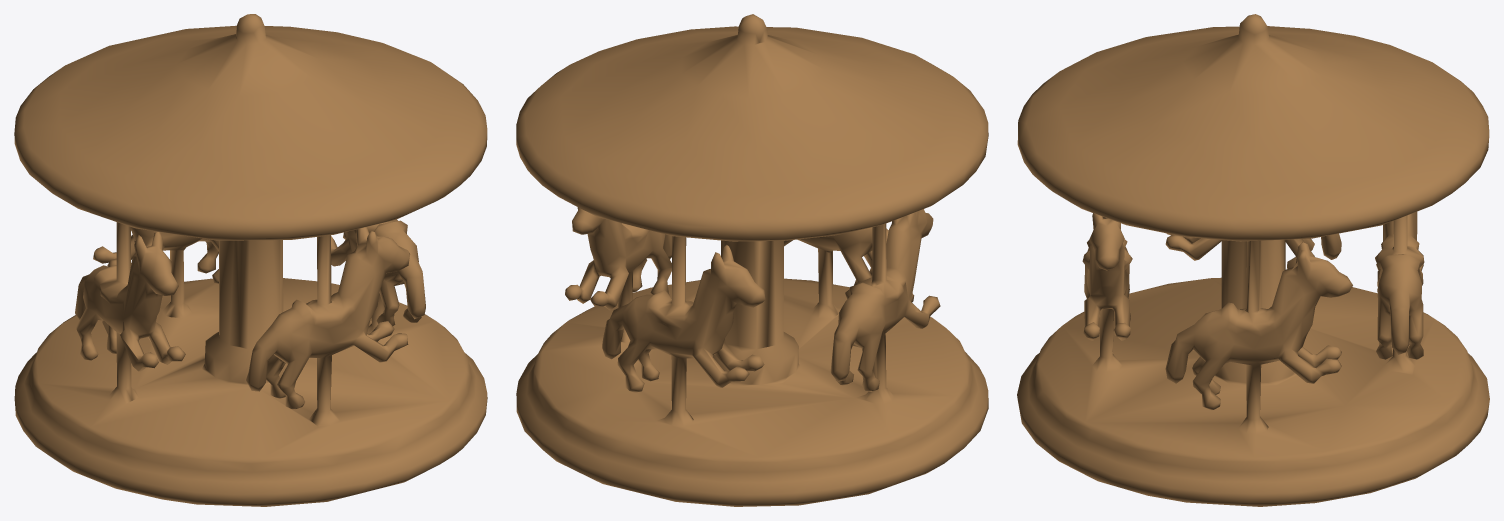
File: NEW_RECOVERY_104_LOD1.fbx
3 renders of one model, left to right at view 1: azimuth 30°, elevation 25°; view 2: azimuth 150°, elevation 25°; view 3: azimuth 270°, elevation 25°, orthographic.
Parts seen in each view (by area): view 1: Carousel_Static_Sculpture; view 2: Carousel_Static_Sculpture; view 3: Carousel_Static_Sculpture.
Part boxes in pixels (left/top/right/bottom): Carousel_Static_Sculpture: left=14, top=14, right=487, bottom=506; Carousel_Static_Sculpture: left=516, top=14, right=988, bottom=506; Carousel_Static_Sculpture: left=1017, top=14, right=1489, bottom=506.
Size of the model in its own units: 436 by 436 by 402.
